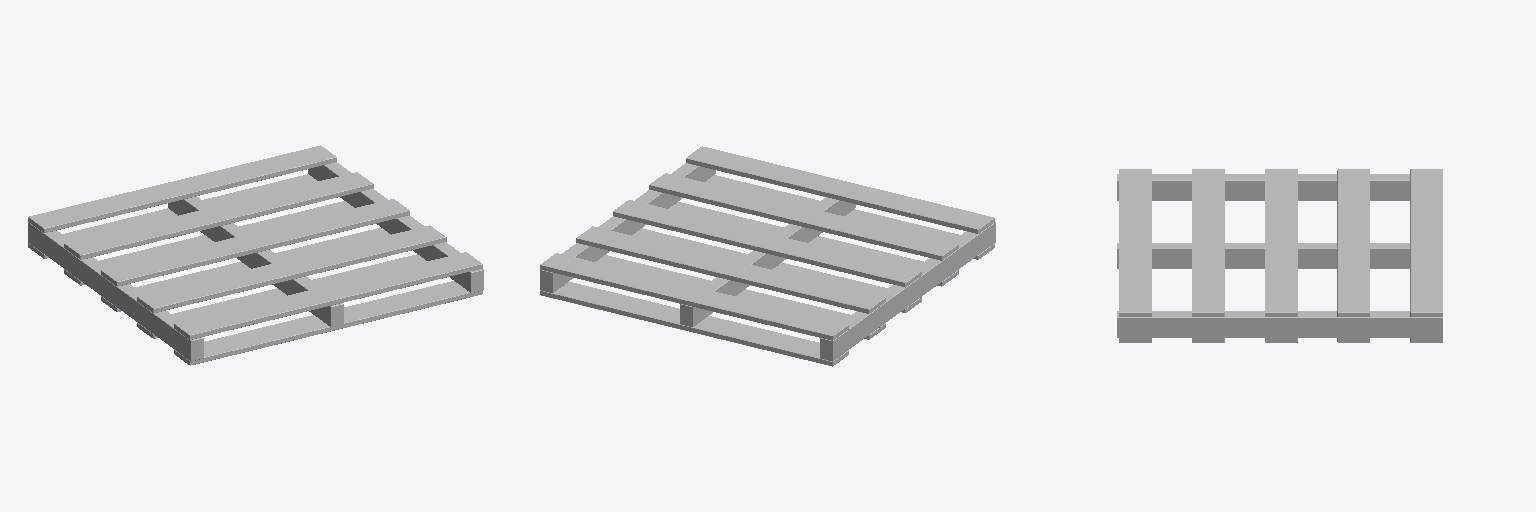
Rendered from pallet3.obj.
3 renders of one model, left to right at view 1: azimuth 30°, elevation 25°; view 2: azimuth 150°, elevation 25°; view 3: azimuth 270°, elevation 25°, orthographic.
Parts seen in each view (by area): view 1: pallet3; view 2: pallet3; view 3: pallet3.
Part boxes in pixels (bbox=[...]): pallet3: bbox=[28, 145, 483, 365]; pallet3: bbox=[540, 146, 995, 366]; pallet3: bbox=[1117, 169, 1442, 342].
Size of the model in its own units: 0.8776 by 0.0879 by 0.8463.